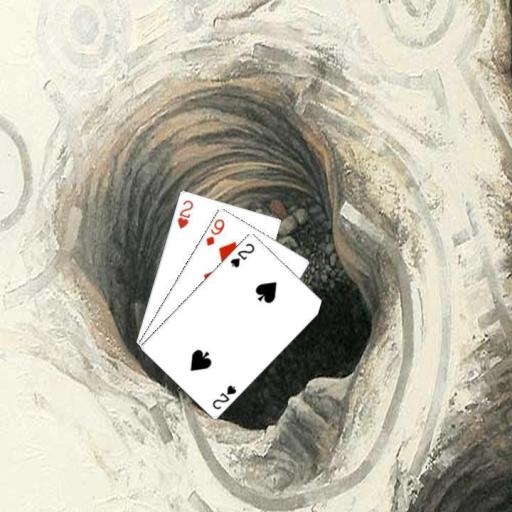card-corner: (209, 381, 238, 411), (227, 240, 256, 268), (203, 215, 226, 247), (174, 196, 195, 230)
